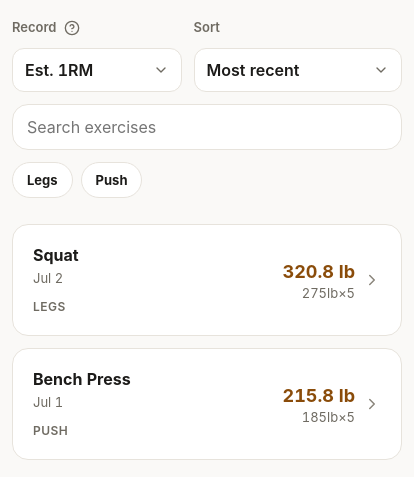
Test case: PRsTab tags, filtering, and row navigation › search narrows the board and clears back with Clear all
Check: the button "Push" is shown, box left=81, top=162, right=142, bottom=198
Type "squat" into the search field labelled "Search exercises" at (207, 127), box left=12, top=104, right=402, bottom=150
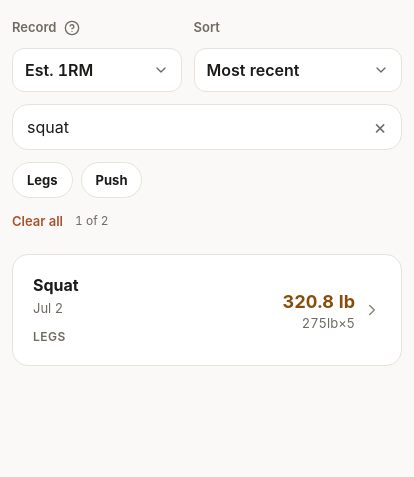
Check: the text "Squat" is shown, box left=33, top=273, right=79, bottom=297
Check: the button "Bench Press" is gone
Click the button "Clear all" at (38, 221), box left=12, top=213, right=63, bottom=229
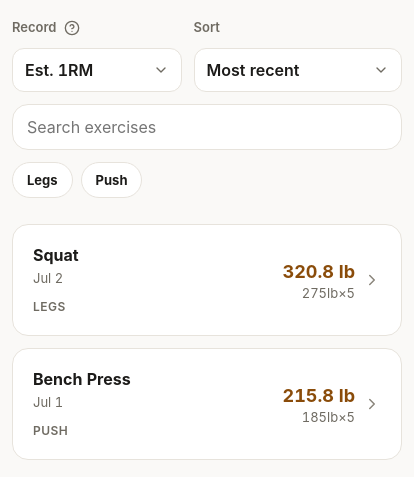
Check: the text "Squat" is shown, box left=33, top=243, right=79, bottom=267
Check: the text "Bench Press" is shown, box left=33, top=367, right=131, bottom=391
